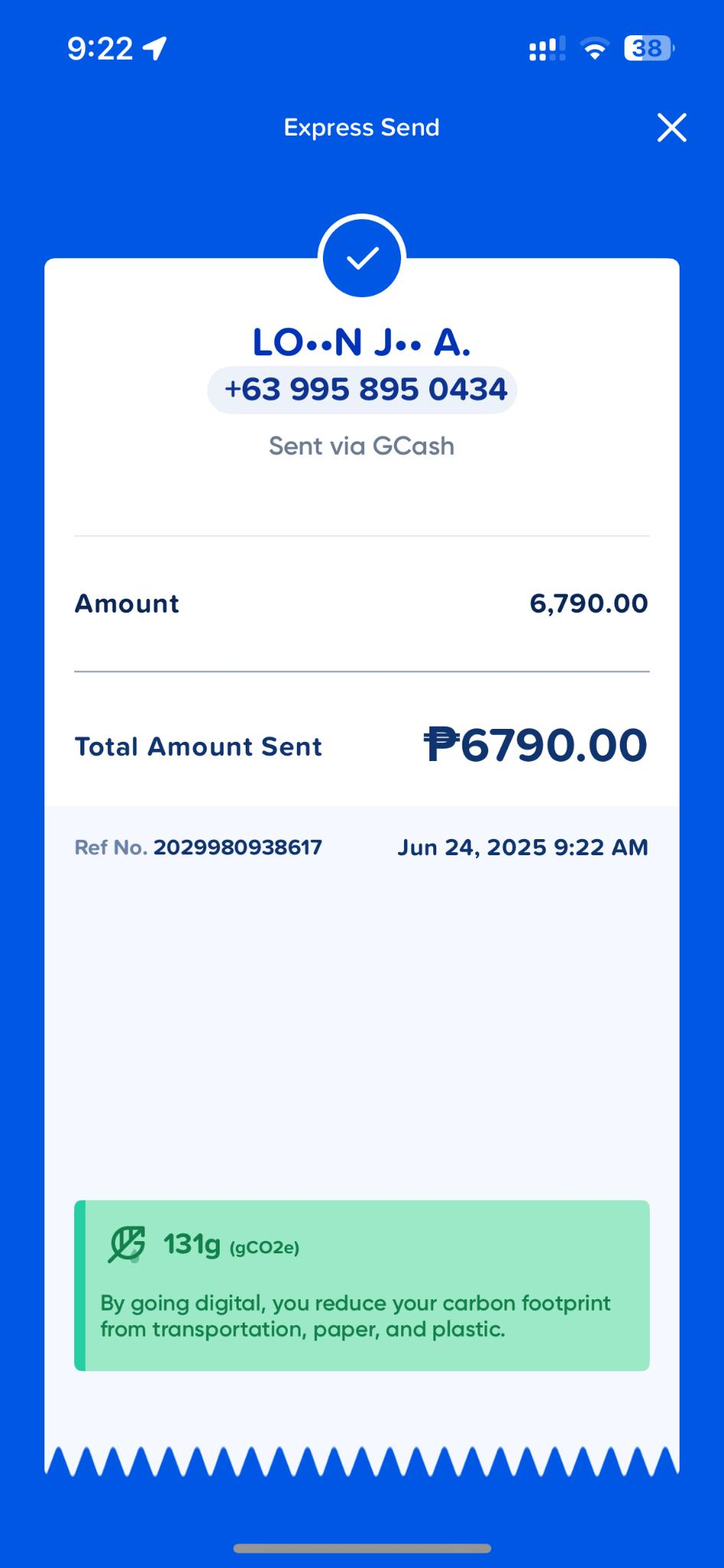Receipt: (0, 78, 724, 1507)
